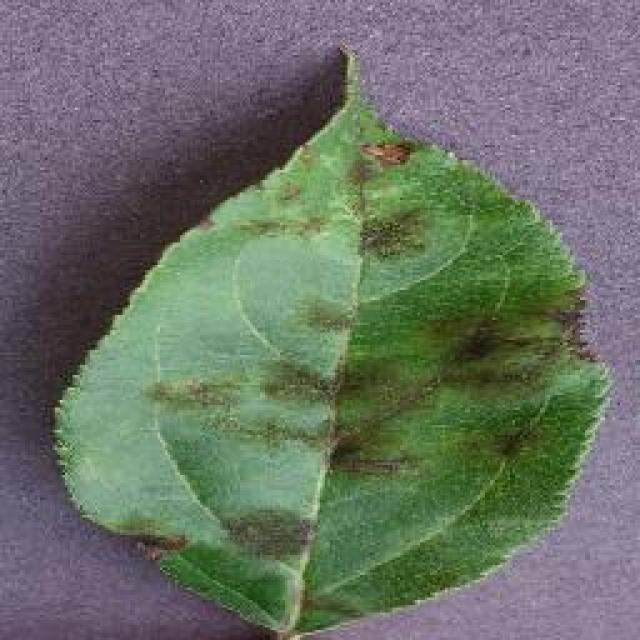apple scab disease: (47, 42, 615, 638)
